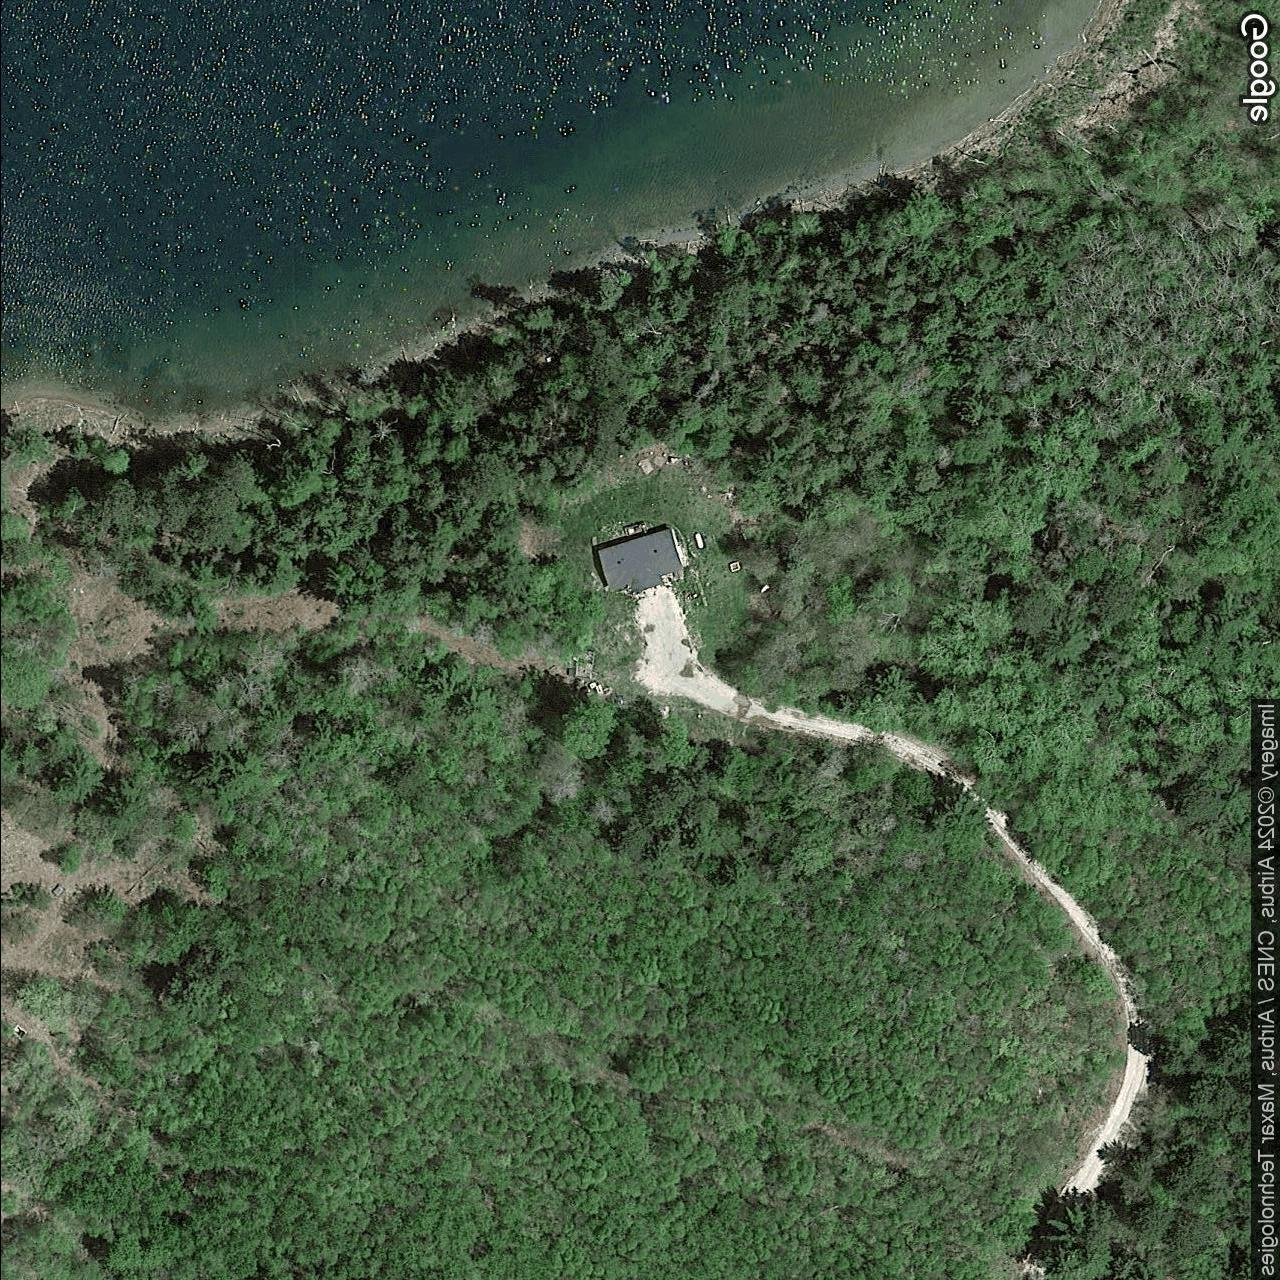House: (595, 527, 685, 594)
Propane: (690, 530, 707, 552)
